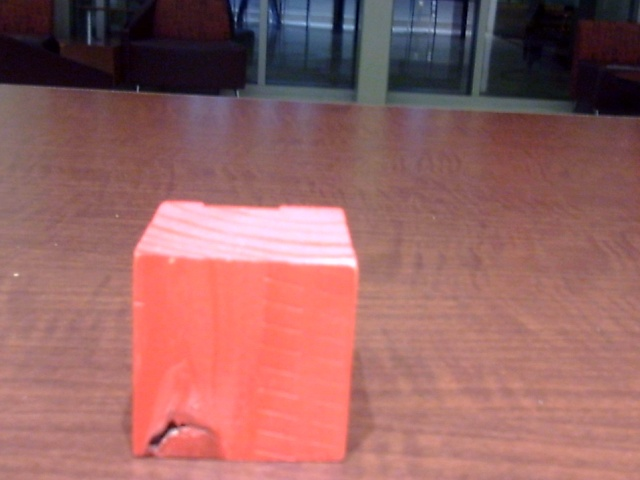RedBlock: (132, 248, 356, 463)
